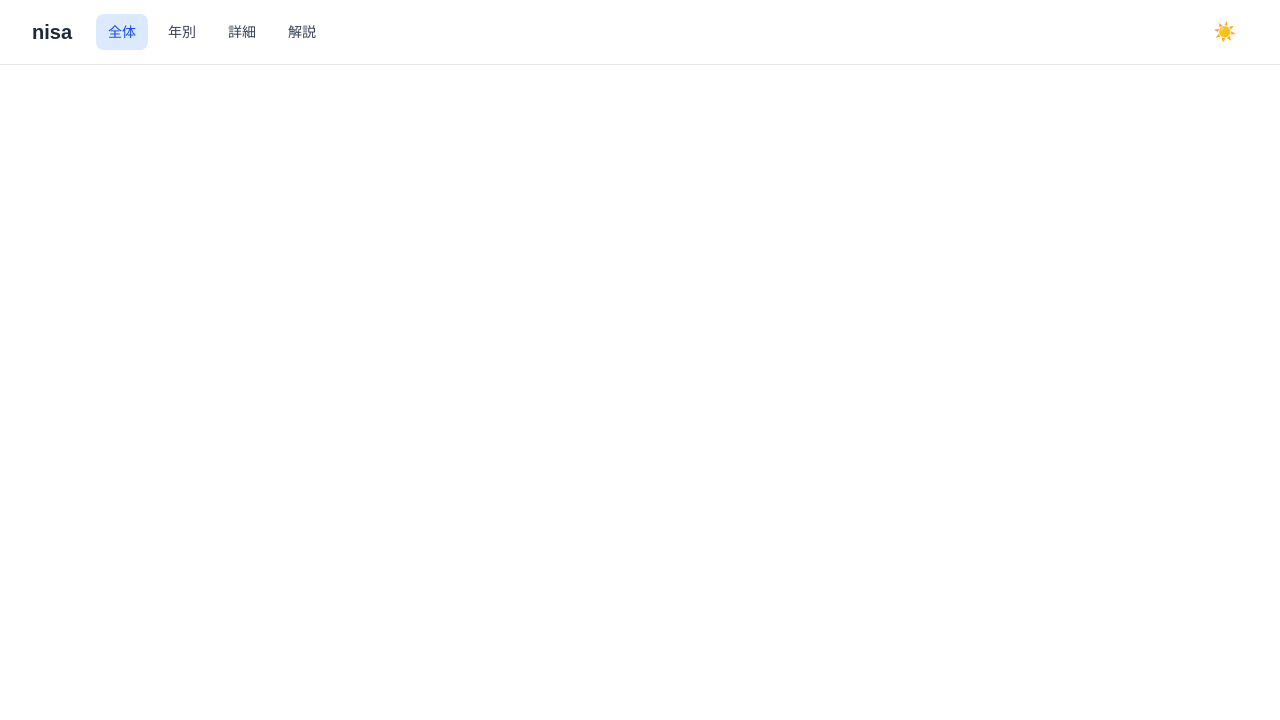
Test: Header › テーマ切り替え機能 › 複数回のクリックで正しく切り替わる
The image size is (1280, 720).
# ライトモード → ダークモード
What coordinates should you click on to do the following:
click the button titled "現在:"
I would click on:
 (1225, 32)
Its box is [1202,10,1248,54].
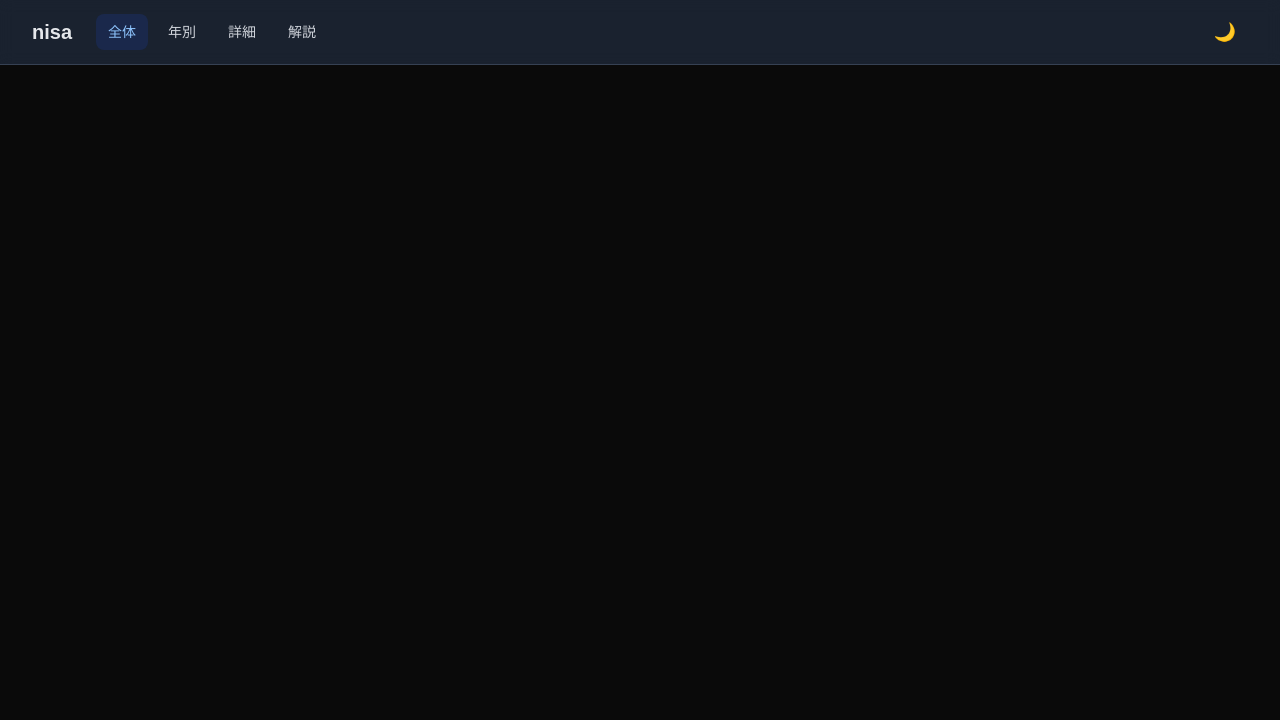
Now the text "🌙" is shown, box [1214,18,1236,46]
# ダークモード → ライトモード
What coordinates should you click on to do the following:
click the button titled "現在:"
I would click on:
 (1225, 32)
Its box is [1202,10,1248,54].
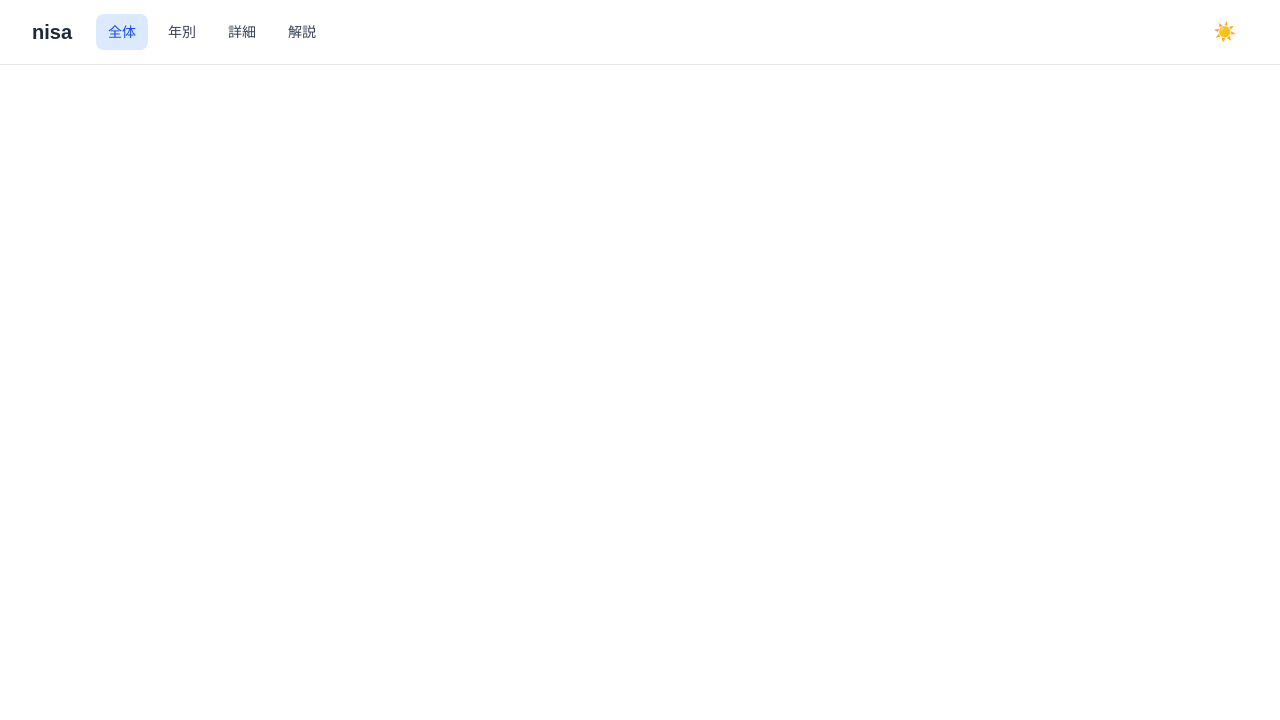
Now the text "☀️" is shown, box [1214,18,1236,46]
# ライトモード → ダークモード
What coordinates should you click on to do the following:
click the button titled "現在:"
I would click on:
 (1225, 32)
Its box is [1202,10,1248,54].
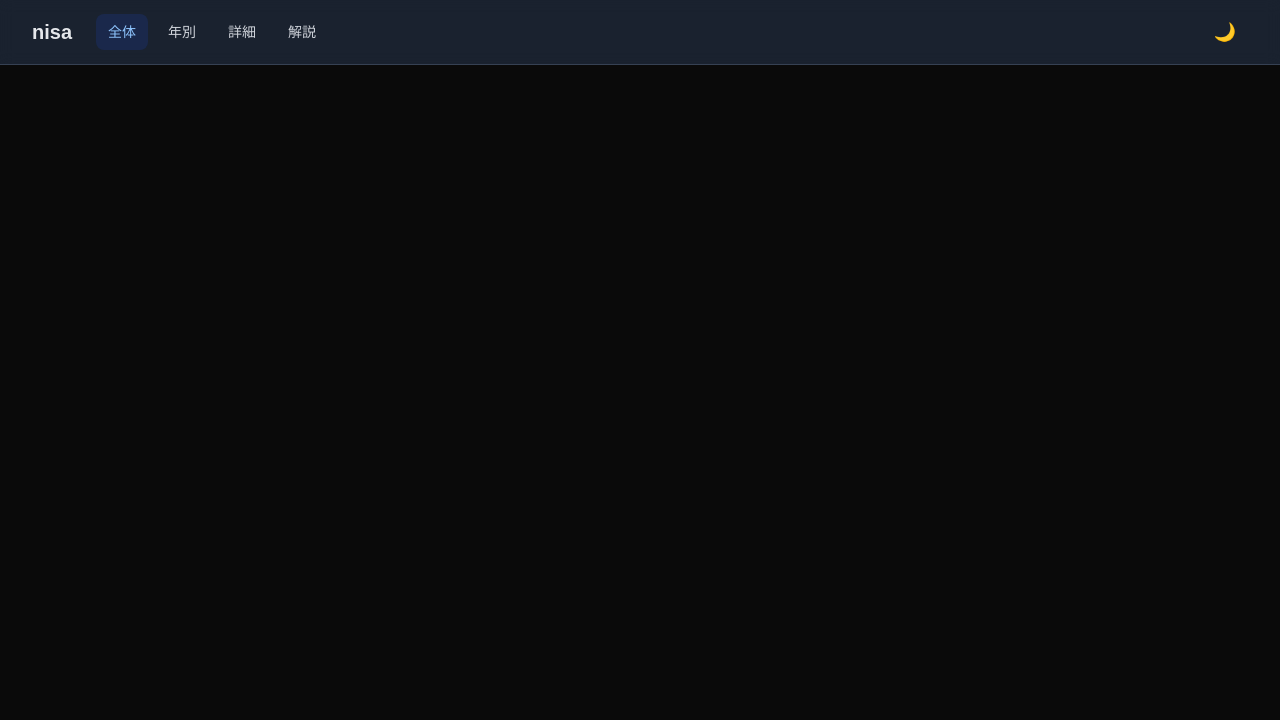
Now the text "🌙" is shown, box [1214,18,1236,46]
